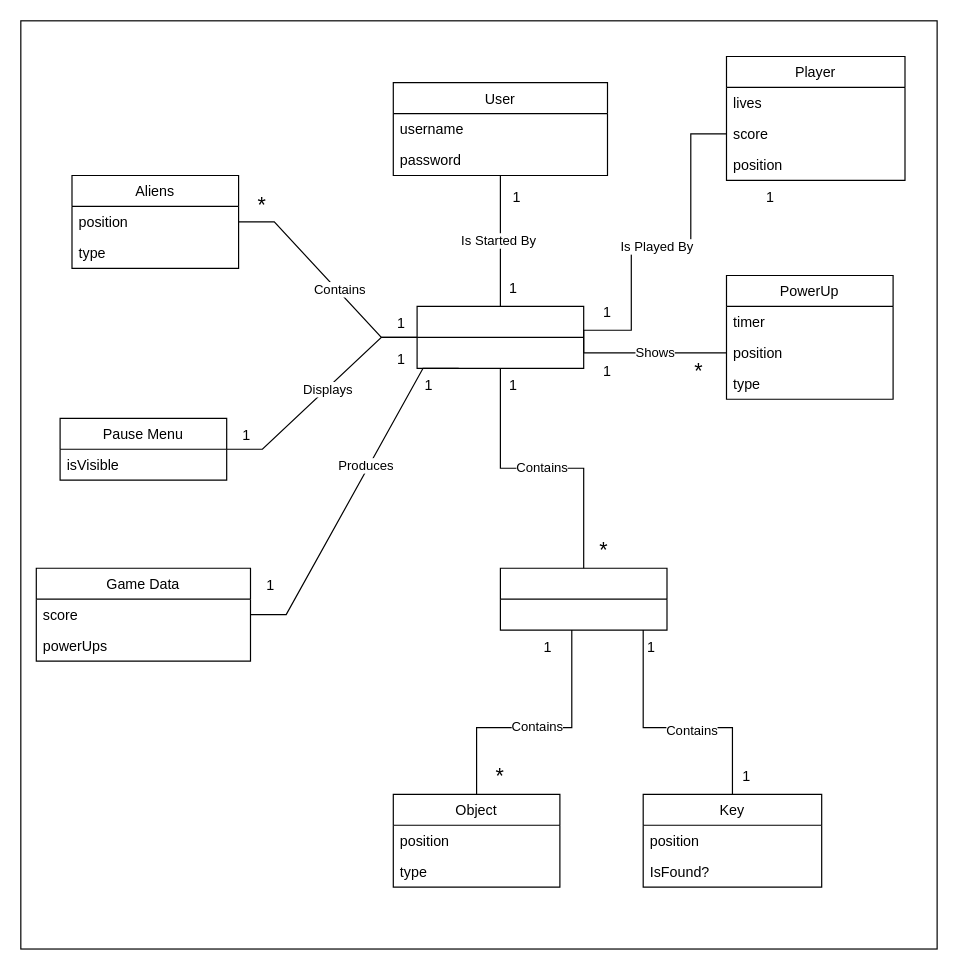
The diagram is 958 pixels wide and 970 high, and some of its shapes have lost their labels. The shapes that lost their labels are listed below. From the top down, each one's centre as x and y in pixels, then its label:
point 500,336: Game
point 583,598: Room
